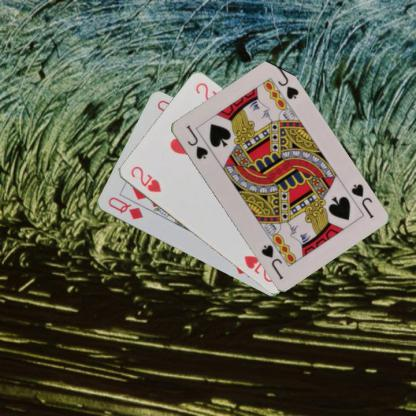2h: (128, 164, 162, 194)
Js: (347, 181, 375, 219), (183, 122, 209, 161)
Qd: (105, 194, 145, 221)
